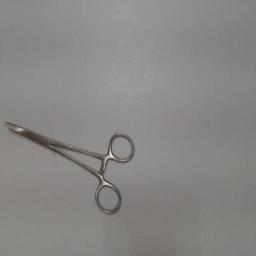Crile Artery Forceps: (2, 118, 136, 222)
